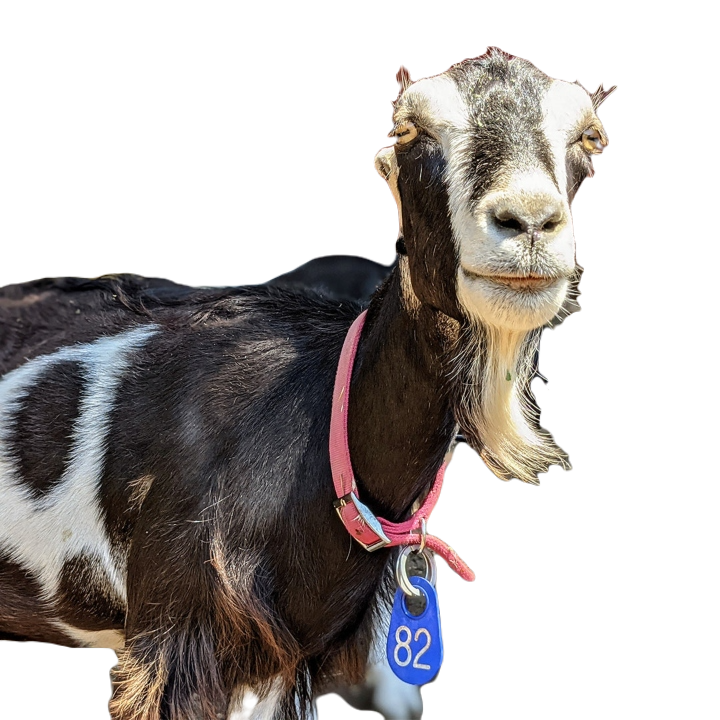Goat: (0, 46, 618, 719)
